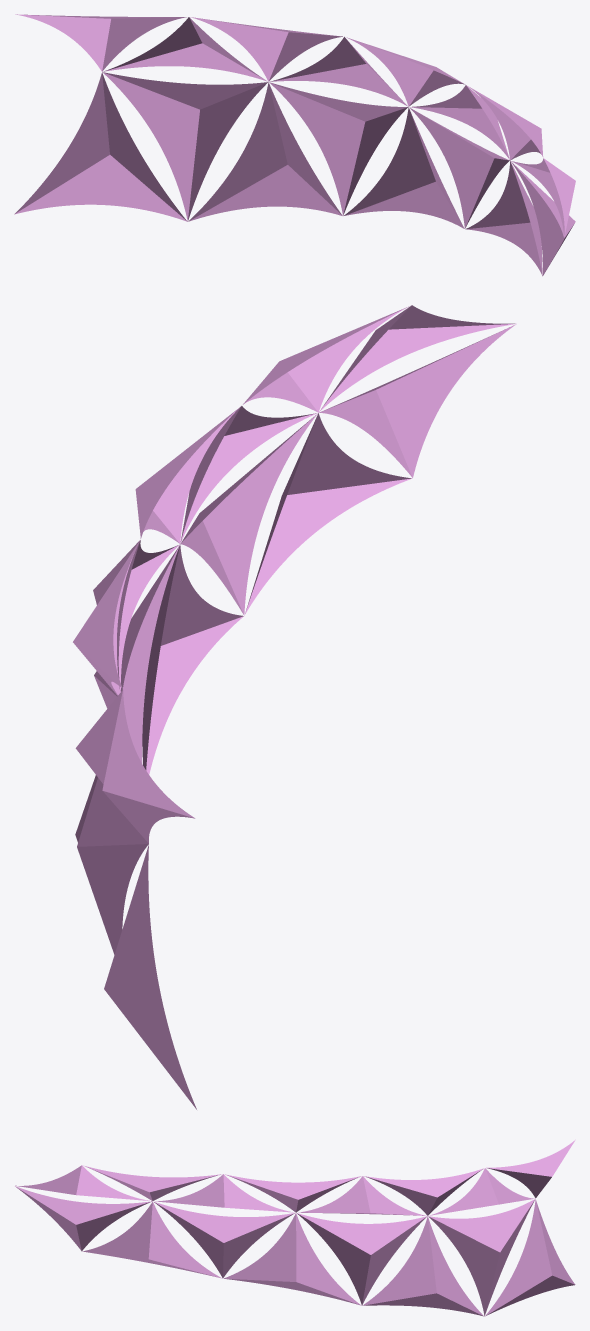
Rendered from TYPE49-3.glb.
The picture shows the model from 3 angles, top to bottom: view 1: azimuth 30°, elevation 25°; view 2: azimuth 150°, elevation 25°; view 3: azimuth 270°, elevation 25°; orthographic projection. The views are drawn at different scales.
Visible parts, largest first — view 1: TYPE49-3 (×40); view 2: TYPE49-3 (×26); view 3: TYPE49-3 (×42).
Boxes of the visible parts, left/top/right/bottom form: TYPE49-3 (×40): left=14, top=14, right=575, bottom=276; TYPE49-3 (×26): left=73, top=305, right=516, bottom=1109; TYPE49-3 (×42): left=15, top=1139, right=575, bottom=1316.
Size of the model in its own units: 14.12 by 14.48 by 39.21.
